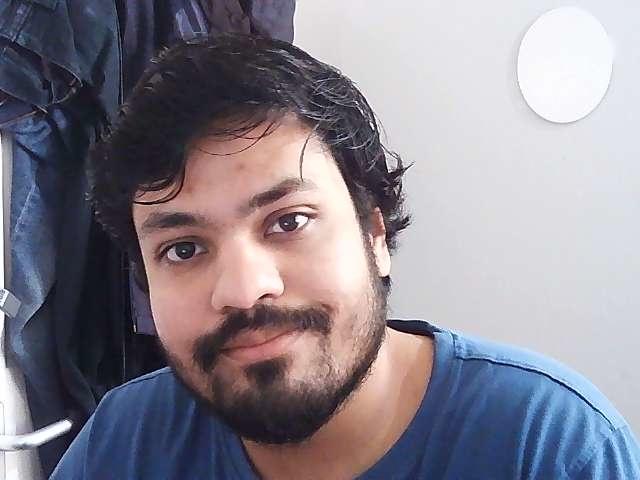Face: (87, 24, 445, 450)
